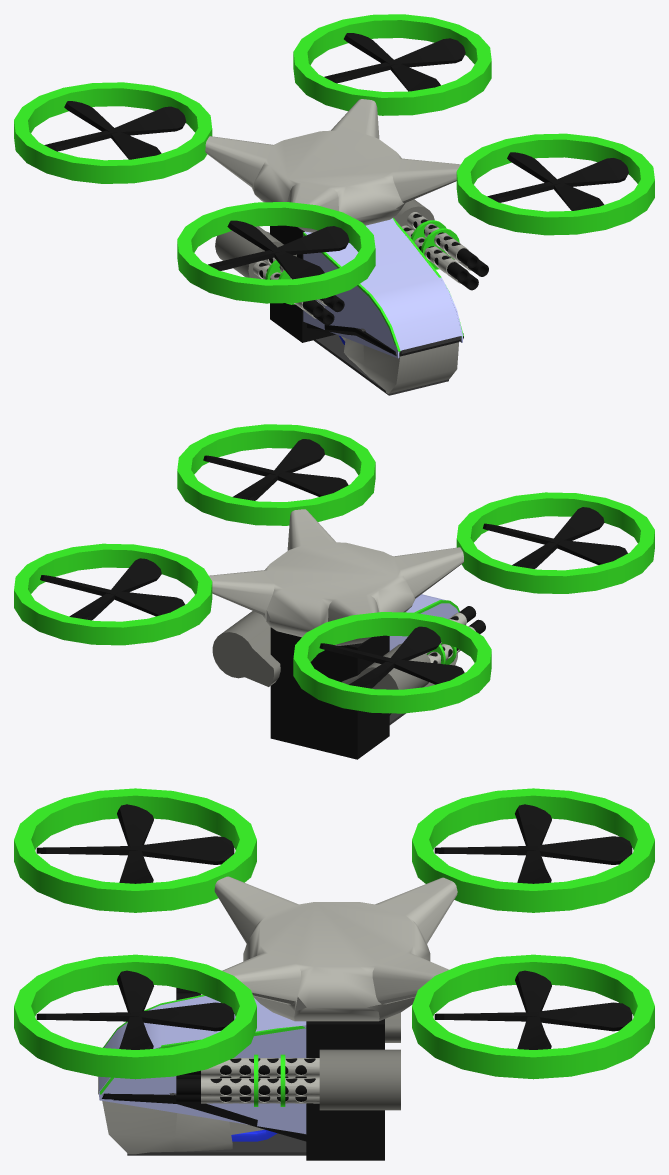
File: drone.fbx
3 renders of one model, top to bottom at view 1: azimuth 30°, elevation 25°; view 2: azimuth 150°, elevation 25°; view 3: azimuth 270°, elevation 25°, orthographic. The views are drawn at different scales.
Parts seen in each view (by area): view 1: pCube1, pPipe3, pPipe4, pPipe2, pPipe1, polySurface216, polySurface198, polySurface267, polySurface265, polySurface266, polySurface264, polySurface217 (+5 smaller); view 2: pCube1, pPipe2, pPipe1, pPipe3, pPipe4, pCube4, polySurface263, polySurface264, polySurface265, polySurface267, polySurface266, polySurface247 (+1 smaller); view 3: pCube1, pPipe1, pPipe4, pPipe3, pPipe2, pCube4, polySurface221, polySurface263, polySurface198, polySurface267, polySurface264, polySurface265 (+9 smaller).
Boxes of the visible parts, x1,y1,x2,y2 form: pCube1: [205, 99, 460, 232]; pPipe3: [177, 202, 375, 303]; pPipe4: [456, 133, 654, 235]; pPipe2: [14, 82, 212, 183]; pPipe1: [293, 14, 491, 115]; polySurface216: [304, 218, 462, 351]; polySurface198: [344, 336, 460, 394]; polySurface267: [487, 152, 628, 210]; polySurface265: [44, 101, 186, 159]; polySurface266: [208, 220, 349, 279]; polySurface264: [324, 33, 465, 91]; polySurface217: [303, 236, 399, 358]; pCube1: [209, 509, 463, 645]; pPipe2: [293, 612, 491, 713]; pPipe1: [14, 543, 212, 645]; pPipe3: [456, 492, 654, 593]; pPipe4: [177, 424, 375, 525]; pCube4: [270, 627, 389, 759]; polySurface263: [212, 611, 280, 686]; polySurface264: [40, 558, 185, 620]; polySurface265: [319, 626, 464, 688]; polySurface267: [203, 439, 348, 500]; polySurface266: [483, 507, 627, 568]; polySurface247: [342, 643, 430, 689]; pCube1: [214, 876, 457, 1021]; pPipe1: [412, 954, 654, 1079]; pPipe4: [14, 954, 256, 1079]; pPipe3: [14, 788, 256, 912]; pPipe2: [412, 788, 654, 912]; pCube4: [306, 1019, 384, 1160]; polySurface221: [99, 1028, 306, 1133]; polySurface263: [319, 1049, 400, 1110]; polySurface198: [98, 1076, 232, 1154]; polySurface267: [36, 970, 234, 1049]; polySurface264: [434, 970, 632, 1049]; polySurface265: [434, 804, 632, 883].
Size of the model in its own units: 784 by 292 by 790.
